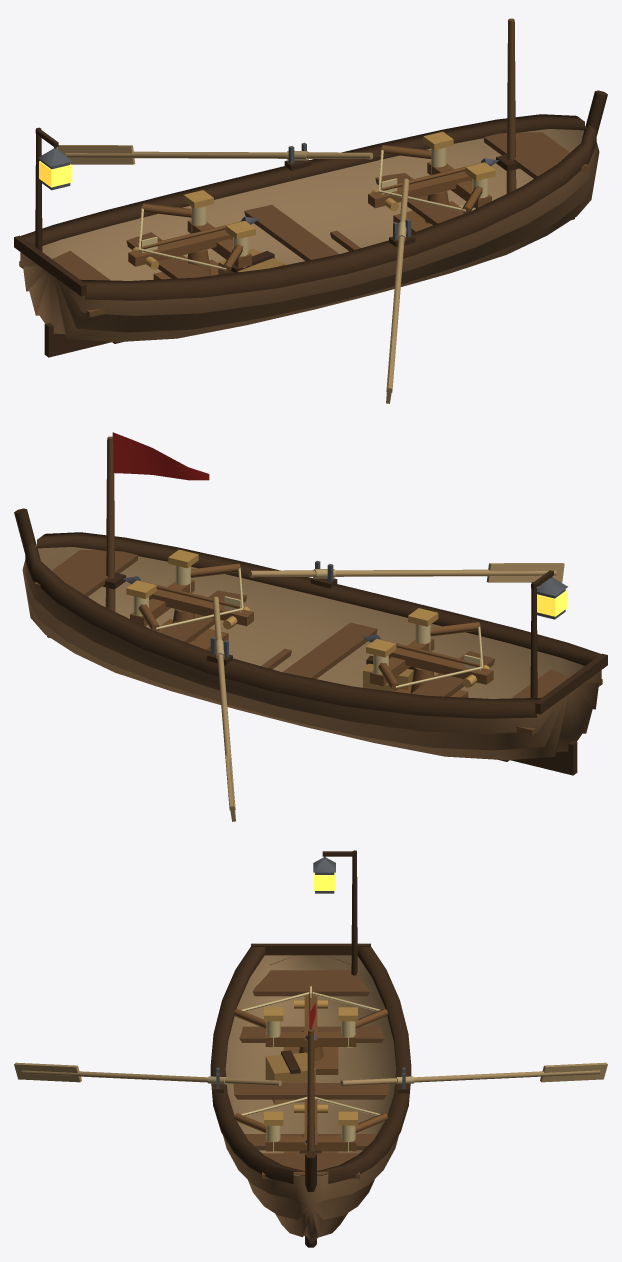
File: rowboat-2-bolt-thrower.glb
3 renders of one model, top to bottom at view 1: azimuth 30°, elevation 25°; view 2: azimuth 150°, elevation 25°; view 3: azimuth 270°, elevation 25°, orthographic. The views are drawn at different scales.
Parts seen in each view (by area): view 1: Mesh_Hull, Mesh_Interior, Mesh_GunwaleTrimS, Mesh_GunwaleTrimP, Mesh_Breasthook, Mesh_Thwart1, Mesh_OarShaftL, Mesh_MastStub, Mesh_BallistaStock_0, Mesh_BallistaStock_1, Mesh_TransomTrim, Mesh_OarBladeL (+10 smaller); view 2: Mesh_Hull, Mesh_Interior, Mesh_GunwaleTrimP, Mesh_GunwaleTrimS, Mesh_Flag_Pennant, Mesh_Breasthook, Mesh_Thwart1, Mesh_OarShaftR, Mesh_MastStub, Mesh_BallistaStock_0, Mesh_BallistaStock_1, Mesh_TransomTrim (+12 smaller); view 3: Mesh_Interior, Mesh_Hull, Mesh_GunwaleTrimS, Mesh_GunwaleTrimP, Mesh_SternSheets, Mesh_Thwart1, Mesh_OarShaftR, Mesh_OarShaftL, Mesh_TransomTrim, Mesh_Thwart0, Mesh_Crate, Mesh_Breasthook (+9 smaller).
Part boxes in pixels (x1=…): Mesh_Hull: x1=20, y1=142, x2=599, y2=342; Mesh_Interior: x1=42, y1=126, x2=586, y2=280; Mesh_GunwaleTrimS: x1=80, y1=124, x2=596, y2=300; Mesh_GunwaleTrimP: x1=21, y1=114, x2=584, y2=246; Mesh_Breasthook: x1=484, y1=132, x2=587, y2=178; Mesh_Thwart1: x1=244, y1=205, x2=339, y2=260; Mesh_OarShaftL: x1=65, y1=151, x2=373, y2=159; Mesh_MastStub: x1=506, y1=18, x2=516, y2=193; Mesh_BallistaStock_0: x1=128, y1=229, x2=232, y2=266; Mesh_BallistaStock_1: x1=368, y1=171, x2=472, y2=208; Mesh_TransomTrim: x1=14, y1=235, x2=87, y2=296; Mesh_OarBladeL: x1=57, y1=145, x2=135, y2=164; Mesh_Hull: x1=22, y1=560, x2=601, y2=760; Mesh_Interior: x1=35, y1=544, x2=584, y2=698; Mesh_GunwaleTrimP: x1=25, y1=542, x2=541, y2=718; Mesh_GunwaleTrimS: x1=37, y1=532, x2=600, y2=665; Mesh_Flag_Pennant: x1=112, y1=432, x2=209, y2=480; Mesh_Breasthook: x1=34, y1=550, x2=137, y2=596; Mesh_Thwart1: x1=282, y1=622, x2=377, y2=678; Mesh_OarShaftR: x1=248, y1=569, x2=556, y2=577; Mesh_MastStub: x1=105, y1=436, x2=115, y2=611; Mesh_BallistaStock_0: x1=389, y1=647, x2=493, y2=684; Mesh_BallistaStock_1: x1=149, y1=589, x2=253, y2=626; Mesh_TransomTrim: x1=534, y1=653, x2=607, y2=714; Mesh_Interior: x1=225, y1=955, x2=396, y2=1175; Mesh_Hull: x1=223, y1=955, x2=398, y2=1243; Mesh_GunwaleTrimS: x1=210, y1=947, x2=304, y2=1183; Mesh_GunwaleTrimP: x1=317, y1=947, x2=411, y2=1183; Mesh_SternSheets: x1=252, y1=970, x2=369, y2=996; Mesh_Thwart1: x1=233, y1=1083, x2=388, y2=1099; Mesh_OarShaftR: x1=21, y1=1070, x2=281, y2=1085; Mesh_OarShaftL: x1=340, y1=1070, x2=600, y2=1085; Mesh_TransomTrim: x1=251, y1=943, x2=370, y2=955; Mesh_Thwart0: x1=239, y1=1026, x2=383, y2=1042; Mesh_Crate: x1=265, y1=1052, x2=315, y2=1104; Mesh_Breasthook: x1=262, y1=1153, x2=359, y2=1178.
Bounding box in the file's own units: 5.72 × 2.26 × 5.9.
